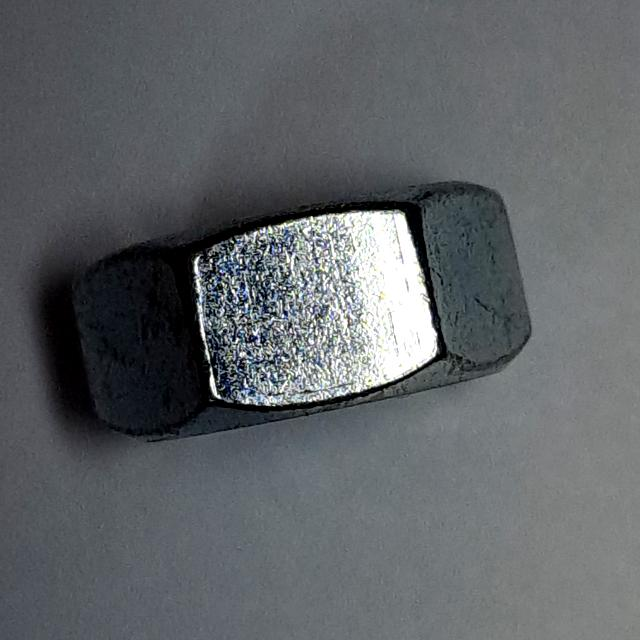Side_Excellent: (62, 156, 543, 471)
